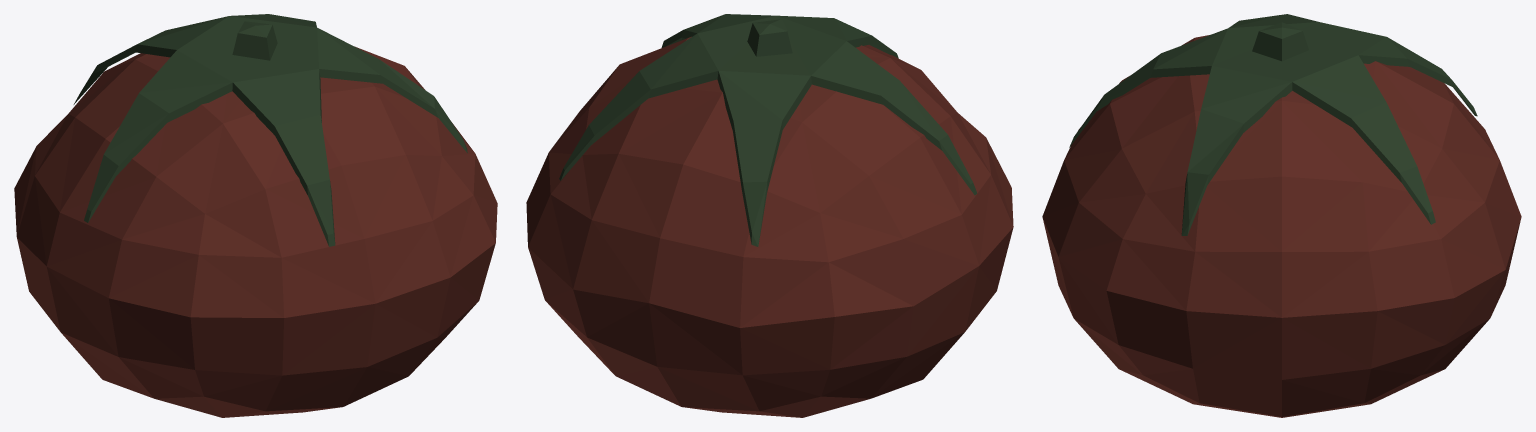
File: tomato.glb
3 views of the same model, side by side, from view 1: azimuth 30°, elevation 25°; view 2: azimuth 150°, elevation 25°; view 3: azimuth 270°, elevation 25° (orthographic).
Visible parts, largest first — view 1: Tomato; view 2: Tomato; view 3: Tomato.
Boxes of the visible parts, x1,y1,x2,y2 form: Tomato: (14,14,497,417); Tomato: (526,14,1013,417); Tomato: (1042,14,1521,417).
Size of the model in its own units: 0.7525 by 0.6264 by 0.7525.
